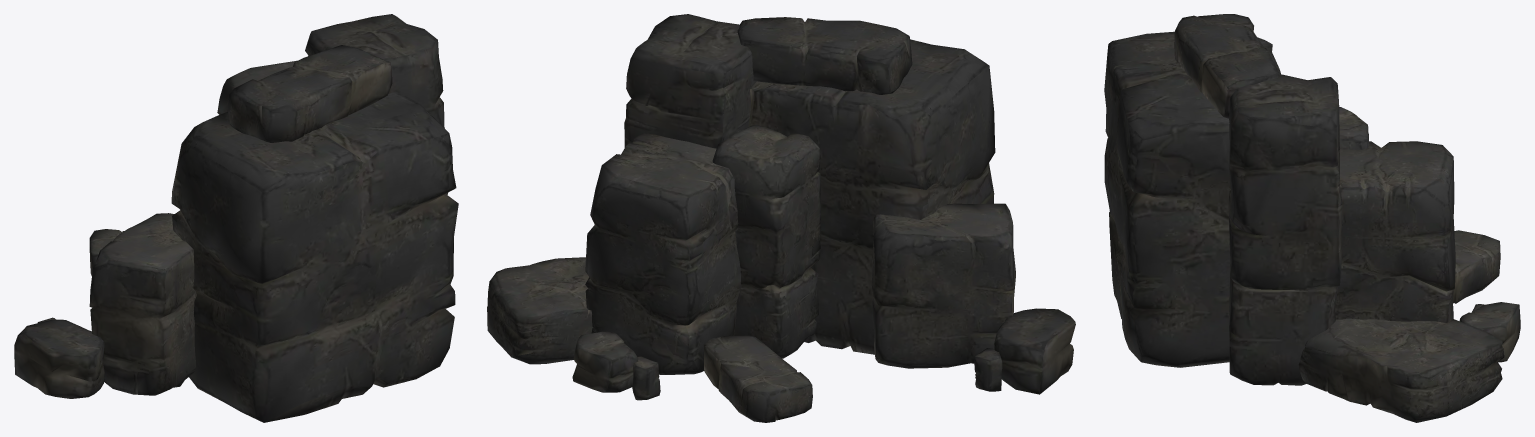
The model's file is rocks.glb.
The picture shows the model from 3 angles, left to right: view 1: azimuth 30°, elevation 25°; view 2: azimuth 150°, elevation 25°; view 3: azimuth 270°, elevation 25°; orthographic projection.
Visible parts, largest first — view 1: rock4_1, rock6, rock1_1, rock5_1, rock2_1, rock4, rock1; view 2: rock4_1, rock4, rock6, rock5, rock5_1, rock1_1, rock7, rock1, rock2_1, rock2, rock3_1, rock3; view 3: rock4_1, rock5_1, rock4, rock7, rock1_1, rock1, rock2, rock5.
Boxes of the visible parts, x1,y1,x2,y2 form: rock4_1: (171, 91, 458, 422); rock6: (89, 213, 196, 395); rock1_1: (228, 45, 392, 142); rock5_1: (305, 14, 444, 127); rock2_1: (14, 319, 104, 398); rock4: (217, 60, 297, 114); rock1: (89, 229, 123, 275); rock4_1: (748, 39, 995, 354); rock4: (585, 133, 741, 374); rock6: (871, 203, 1015, 368); rock5: (712, 125, 820, 358); rock5_1: (624, 14, 756, 148); rock1_1: (737, 17, 912, 94); rock7: (487, 257, 593, 364); rock1: (704, 334, 812, 422); rock2_1: (994, 308, 1075, 394); rock2: (572, 331, 638, 392); rock3_1: (974, 348, 1002, 391); rock3: (632, 356, 660, 400); rock4_1: (1104, 31, 1281, 367); rock5_1: (1228, 74, 1342, 385); rock4: (1335, 141, 1455, 322); rock7: (1298, 318, 1504, 422); rock1_1: (1174, 14, 1278, 118); rock1: (1453, 230, 1500, 303); rock2: (1459, 302, 1520, 362); rock5: (1339, 107, 1368, 149).
Bounding box in the file's own units: 1363 × 768 × 1016.
1 material, 1 textured.
